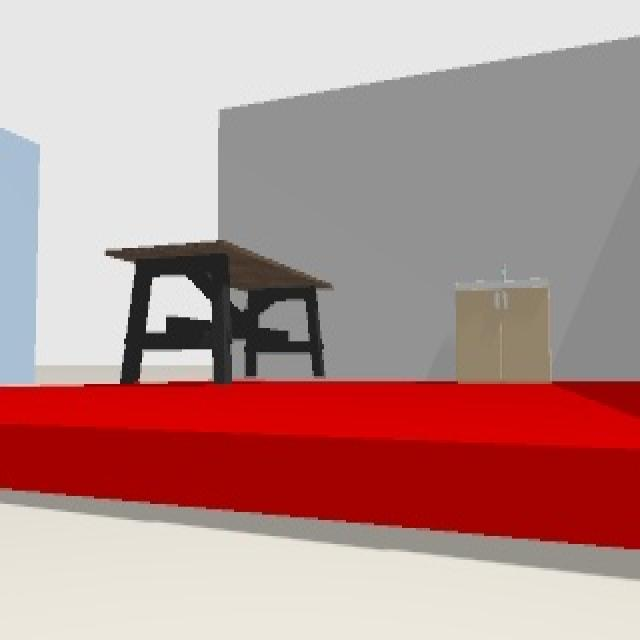dining: (105, 240, 334, 386)
